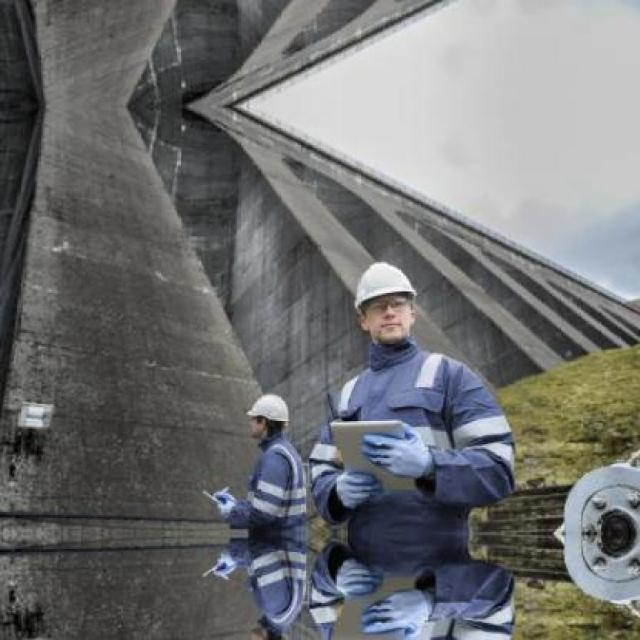helmet: (341, 255, 416, 352), (247, 391, 288, 440), (246, 626, 289, 637)
